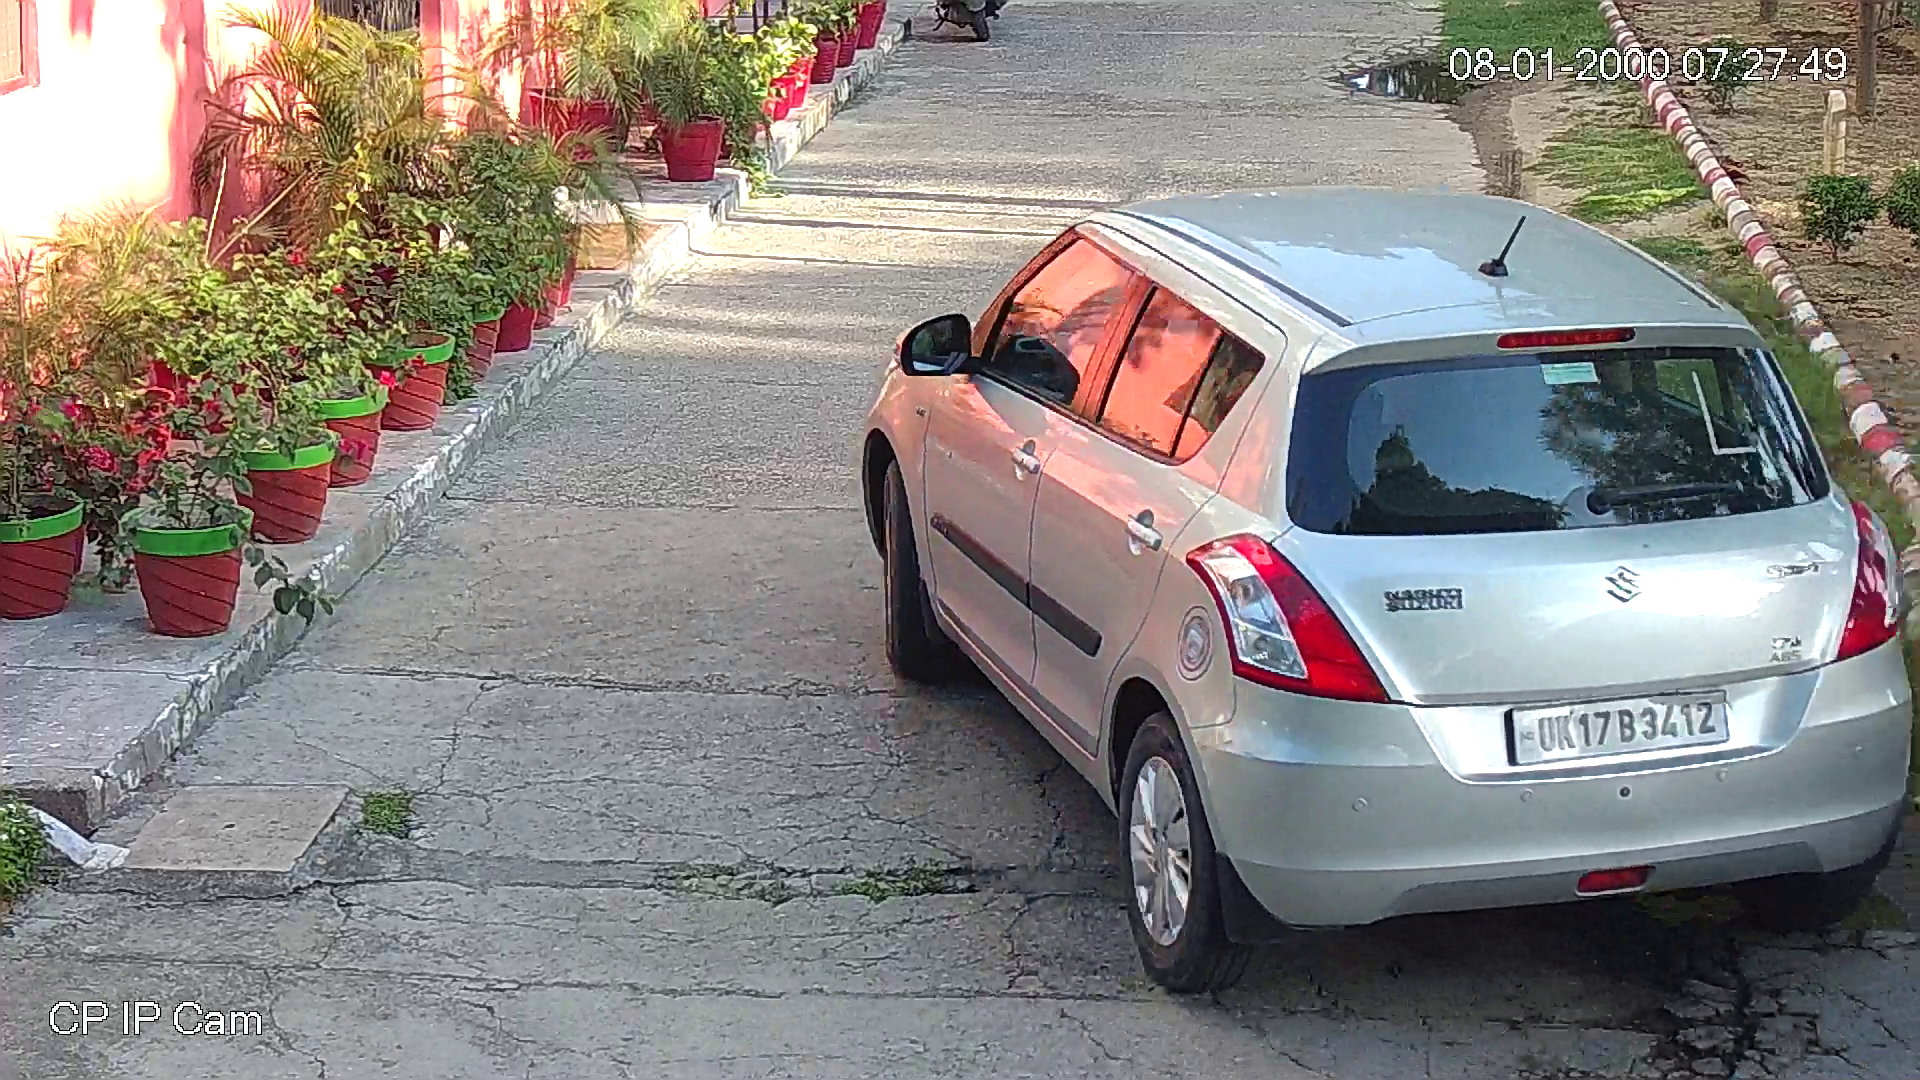plate: (1498, 679, 1741, 787)
